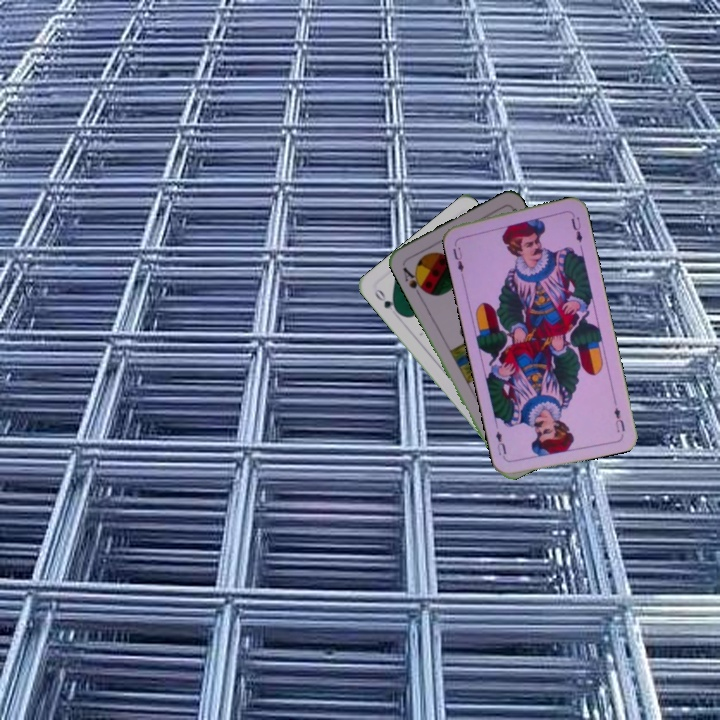EU: (610, 403, 627, 435), (449, 243, 466, 274)
GO: (370, 285, 403, 317)
SA: (399, 263, 429, 299)
